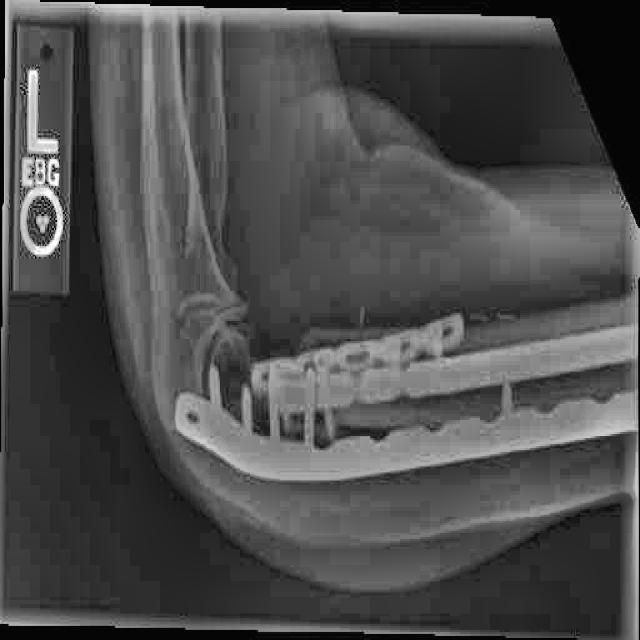elbow positive: (196, 262, 267, 350)
